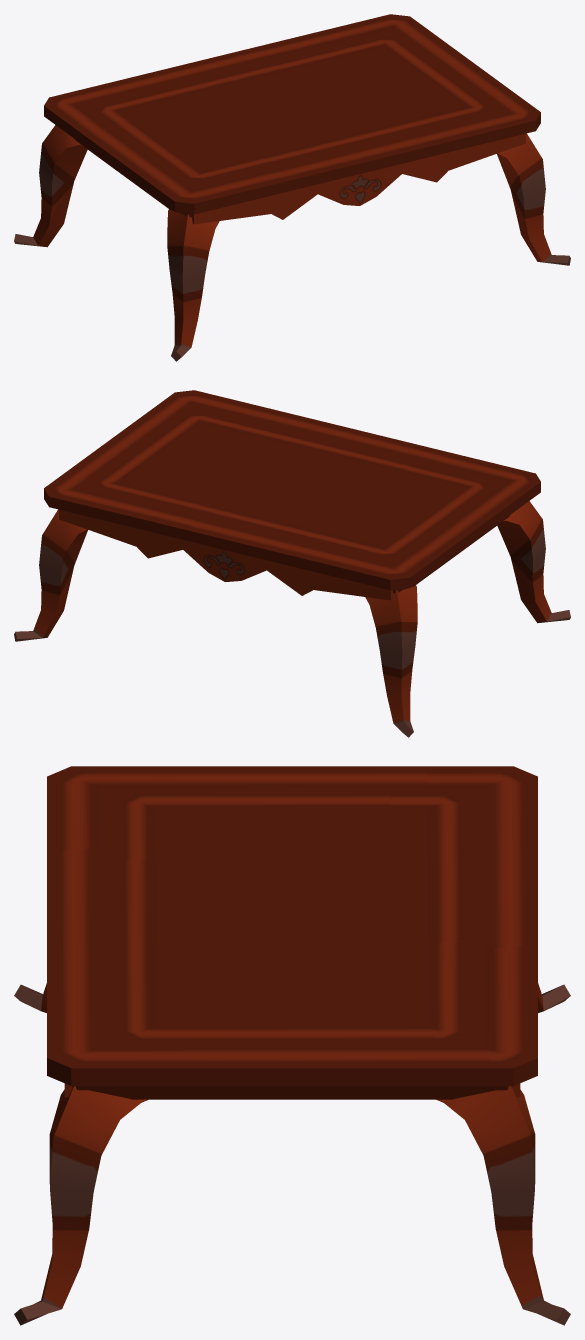
Rendered from VicCoffeetable.fbx.
3 views of the same model, one above another, from view 1: azimuth 30°, elevation 25°; view 2: azimuth 150°, elevation 25°; view 3: azimuth 270°, elevation 25° (orthographic). The views are drawn at different scales.
Visible parts, largest first — view 1: VicCoffeetable; view 2: VicCoffeetable; view 3: VicCoffeetable.
Boxes of the visible parts, box(x1,y1,x2,y2) form: VicCoffeetable: box(14, 14, 570, 361); VicCoffeetable: box(14, 390, 570, 737); VicCoffeetable: box(14, 766, 570, 1325).
Size of the model in its own units: 3.5 by 1.22 by 2.5.
1 material, 1 textured.
